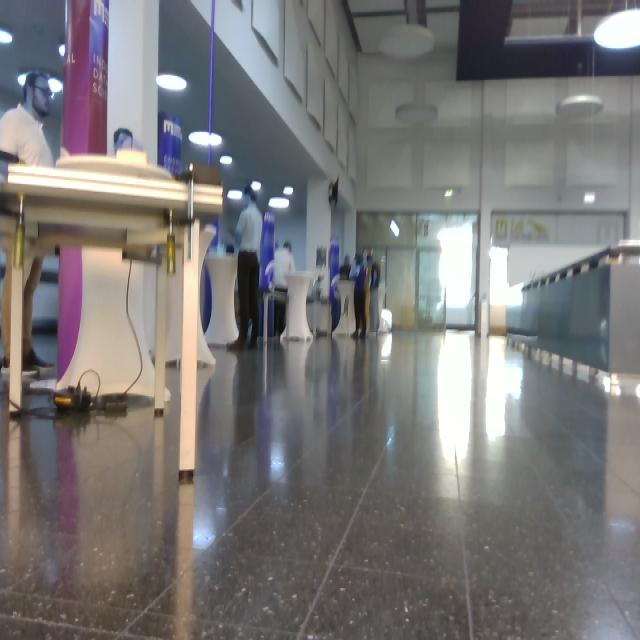door: (356, 210, 479, 333), (416, 212, 479, 332)
light bulb: (378, 24, 435, 61), (594, 8, 640, 50), (557, 94, 604, 120), (18, 71, 63, 95), (395, 104, 438, 125), (156, 74, 187, 92), (189, 132, 222, 146), (268, 197, 290, 209), (48, 77, 63, 93), (1, 29, 13, 45), (227, 189, 243, 200), (390, 220, 400, 237), (251, 181, 262, 192), (220, 156, 233, 165), (18, 73, 27, 86), (283, 186, 294, 196), (59, 44, 66, 57)
person: (1, 70, 56, 372), (226, 188, 263, 350)
tiled floor: (2, 327, 639, 639)
